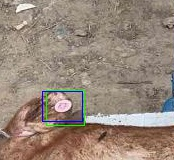text: (46, 90, 84, 125)
